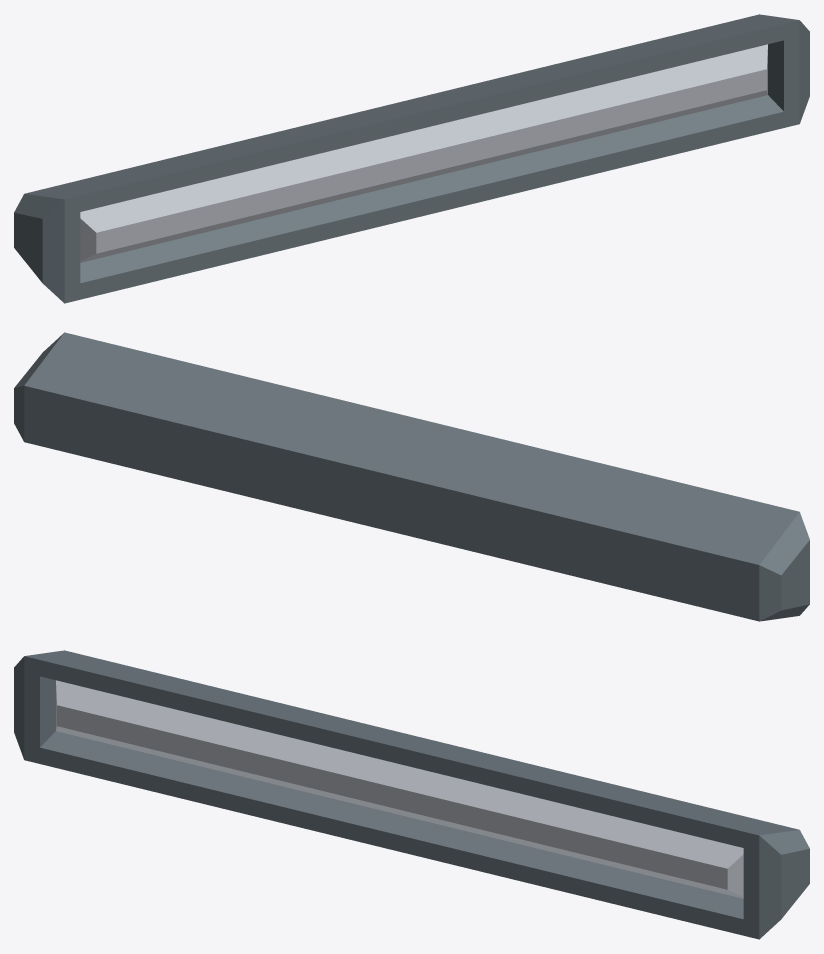
Rendered from SM_Prop_Light_Fluorescent_01.glb.
The picture shows the model from 3 angles, top to bottom: view 1: azimuth 30°, elevation 25°; view 2: azimuth 150°, elevation 25°; view 3: azimuth 330°, elevation 25°; orthographic projection.
Parts seen in each view (by area): view 1: SM_Prop_Light_Fluorescent_01; view 2: SM_Prop_Light_Fluorescent_01; view 3: SM_Prop_Light_Fluorescent_01.
Part boxes in pixels (x1,y1,x2,y2): SM_Prop_Light_Fluorescent_01: (14, 14, 809, 303); SM_Prop_Light_Fluorescent_01: (14, 332, 809, 621); SM_Prop_Light_Fluorescent_01: (14, 650, 809, 939).
Bounding box in the file's own units: 1.68 × 0.2173 × 0.1528.
Materials: 1 (1 with a texture image).
